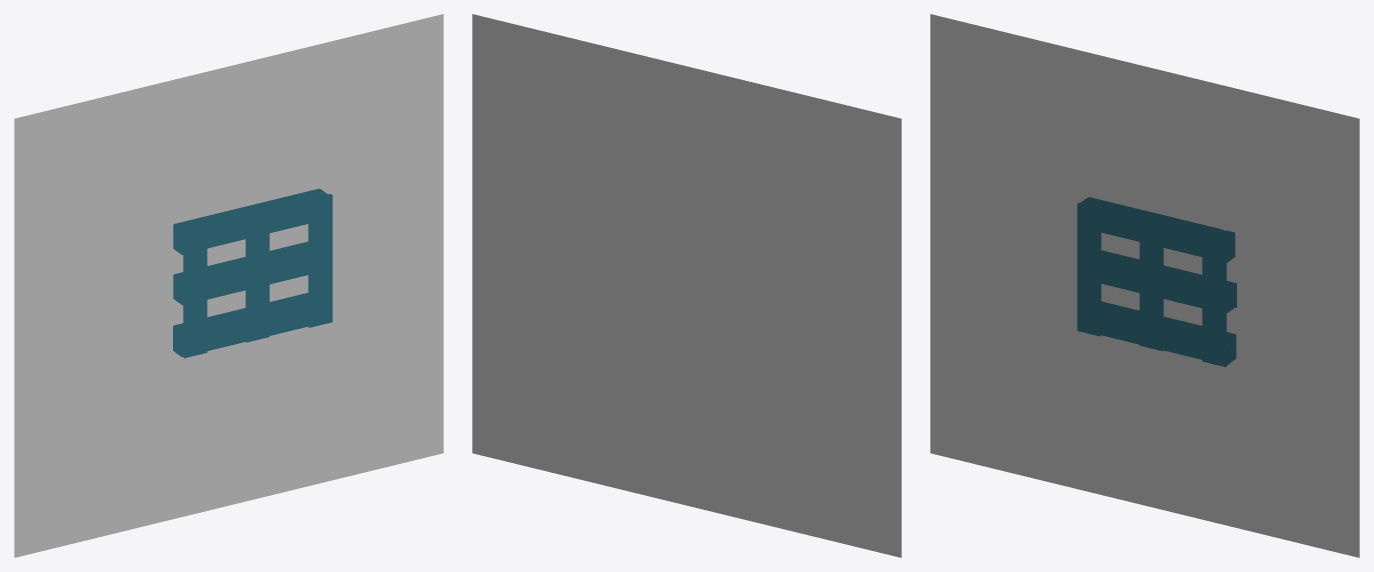
File: pallet.obj
3 renders of one model, left to right at view 1: azimuth 30°, elevation 25°; view 2: azimuth 150°, elevation 25°; view 3: azimuth 330°, elevation 25°, orthographic.
Parts seen in each view (by area): view 1: Plane01, Box56, Box57, Box55, Box54, Box52, Box53, Box18, Box16, Box17; view 2: Plane01; view 3: Plane01, Box57, Box56, Box55, Box54, Box53, Box52, Box18, Box16, Box17.
Part boxes in pixels (box(x1,y1,x2,y2)): Plane01: box(14, 14, 443, 557); Box56: box(308, 194, 332, 327); Box57: box(183, 225, 207, 358); Box55: box(245, 210, 269, 342); Box54: box(182, 194, 330, 253); Box52: box(182, 250, 308, 305); Box53: box(207, 302, 308, 350); Box18: box(173, 188, 320, 225); Box16: box(173, 293, 308, 327); Box17: box(173, 241, 308, 274); Plane01: box(472, 14, 901, 557); Plane01: box(930, 14, 1359, 557); Box57: box(1077, 203, 1101, 336); Box56: box(1202, 233, 1226, 367); Box55: box(1139, 218, 1163, 351); Box54: box(1079, 202, 1227, 262); Box53: box(1101, 310, 1202, 359); Box52: box(1101, 259, 1202, 308); Box18: box(1088, 197, 1234, 233); Box16: box(1101, 301, 1236, 358); Box17: box(1101, 250, 1236, 307).
Bounding box in the file's own units: 212 × 207 × 9.82.
